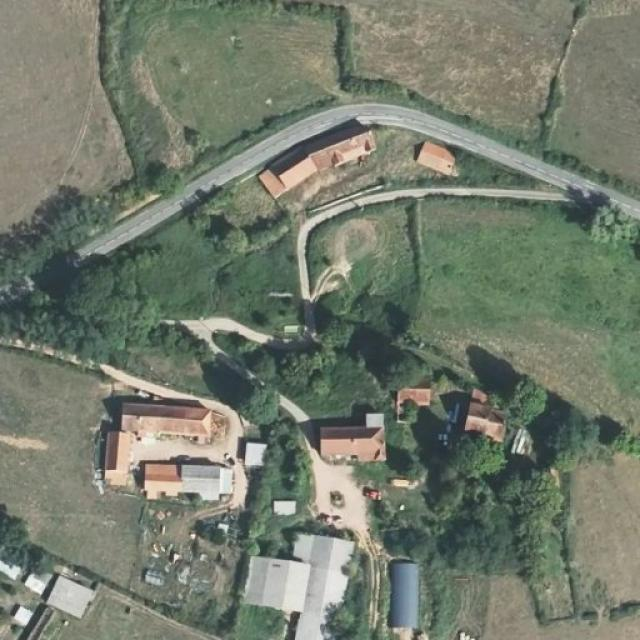ferme: (242, 524, 356, 638), (259, 123, 375, 195), (141, 452, 236, 504), (120, 406, 211, 440), (42, 569, 89, 615), (101, 435, 128, 484)
maison: (462, 376, 511, 443), (320, 411, 384, 461), (414, 134, 458, 173), (396, 374, 430, 420)
